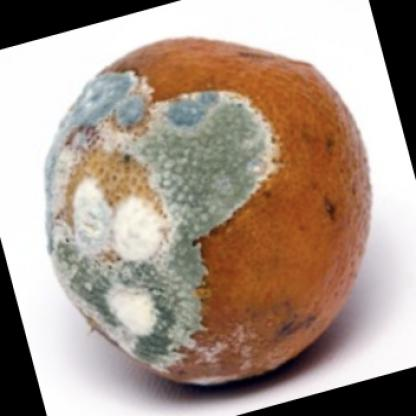rotten_orange: (29, 32, 376, 397)
